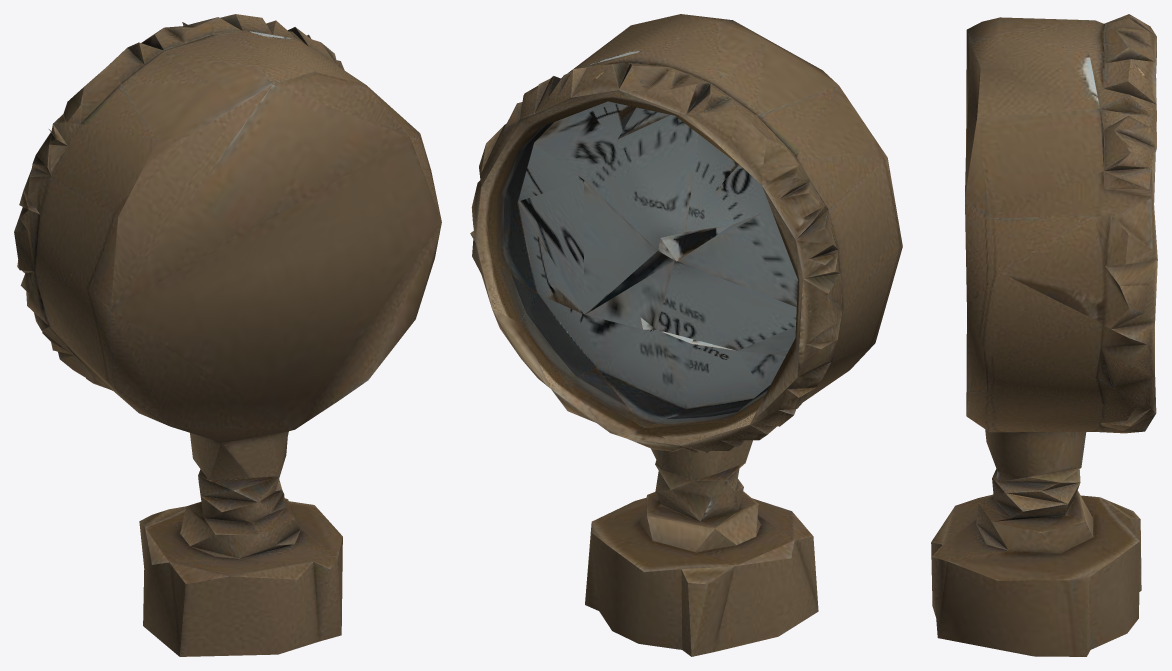
File: mj-pressure-gauge.glb
The picture shows the model from 3 angles, left to right: view 1: azimuth 30°, elevation 25°; view 2: azimuth 150°, elevation 25°; view 3: azimuth 270°, elevation 25°; orthographic projection. The views are drawn at different scales.
Visible parts, largest first — view 1: mj-pressure-gauge; view 2: mj-pressure-gauge; view 3: mj-pressure-gauge.
Boxes of the visible parts, bbox=[...] form: mj-pressure-gauge: bbox=[14, 14, 441, 656]; mj-pressure-gauge: bbox=[470, 14, 902, 656]; mj-pressure-gauge: bbox=[931, 14, 1157, 656].
Size of the model in its own units: 0.2487 by 0.3756 by 0.1332.
1 material, 1 textured.
